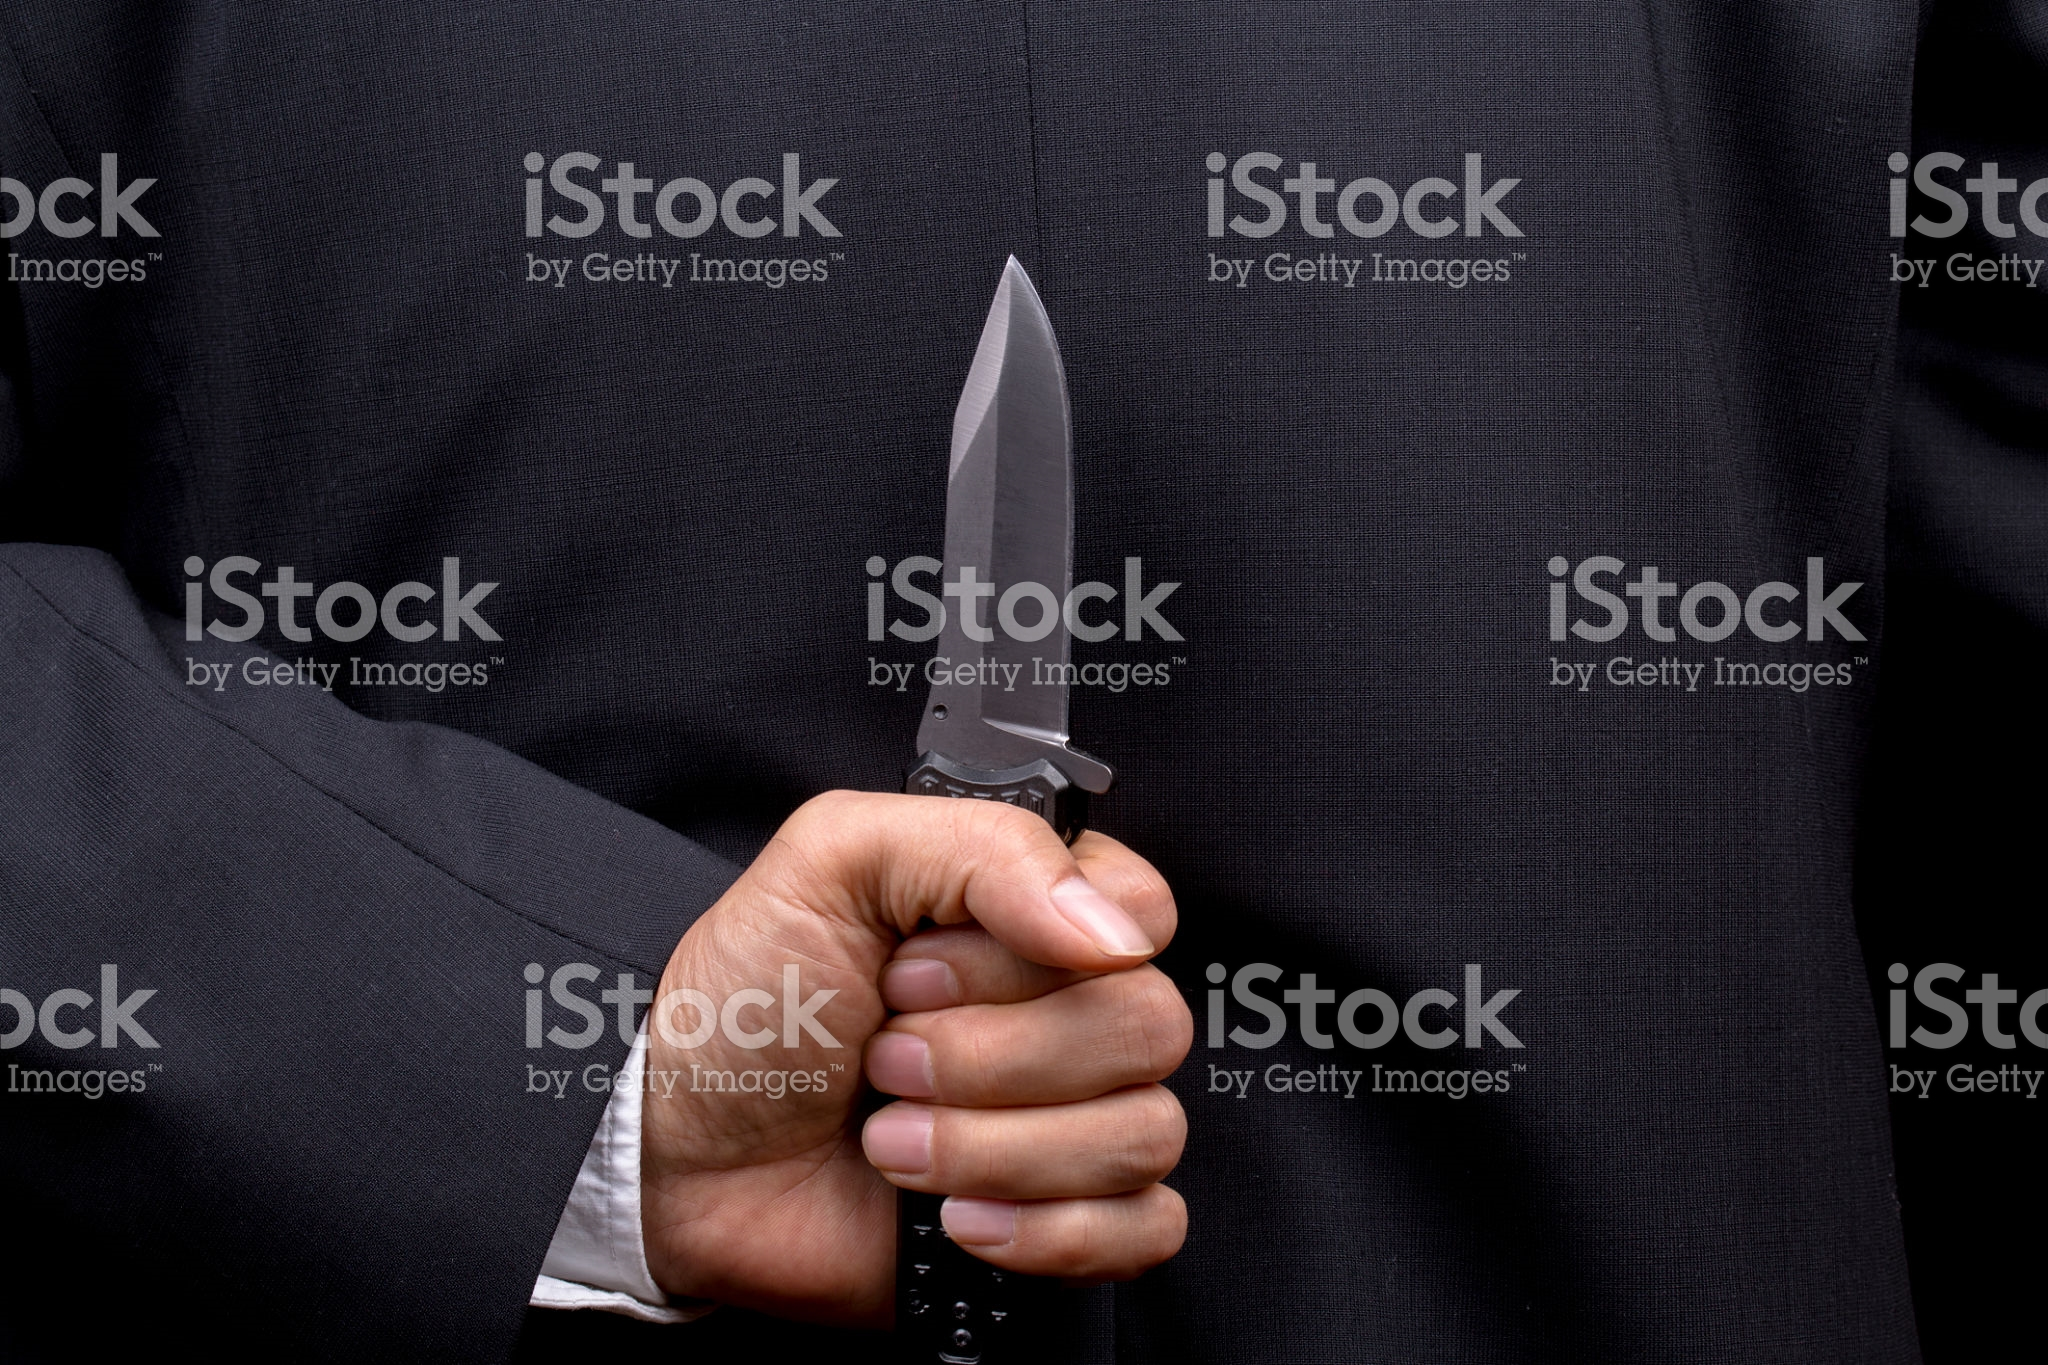knife: (662, 242, 1212, 1146)
